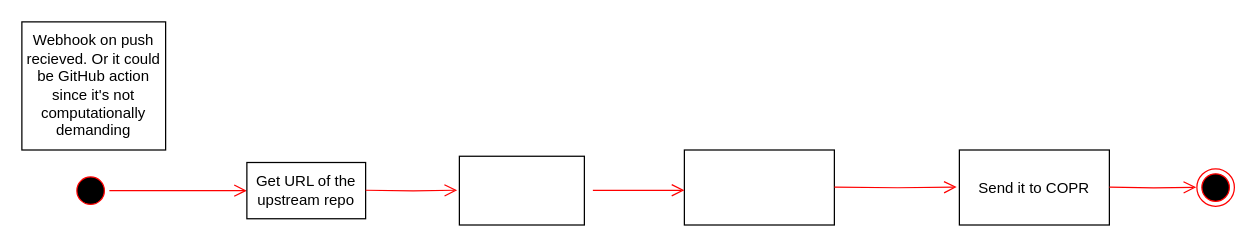
This 1256x248 diagram has some shape labels left out. Each missing label, with the box of its shape:
Add spec file to the downloaded source: (683, 149, 834, 225)
Download source of upstream repo: (458, 155, 584, 225)
